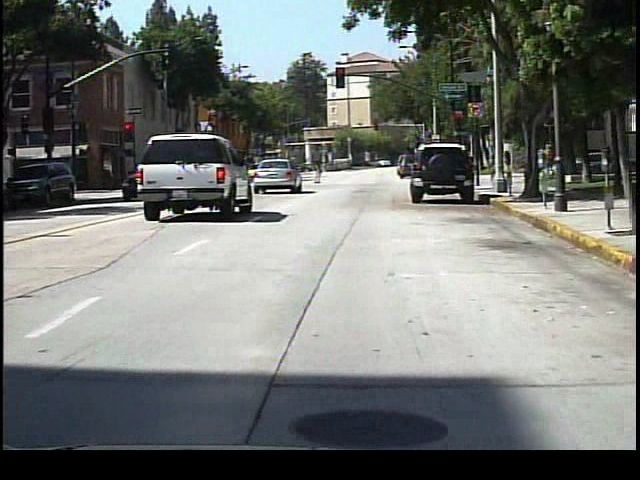person: (538, 140, 557, 183), (460, 152, 477, 184), (311, 156, 328, 185)
